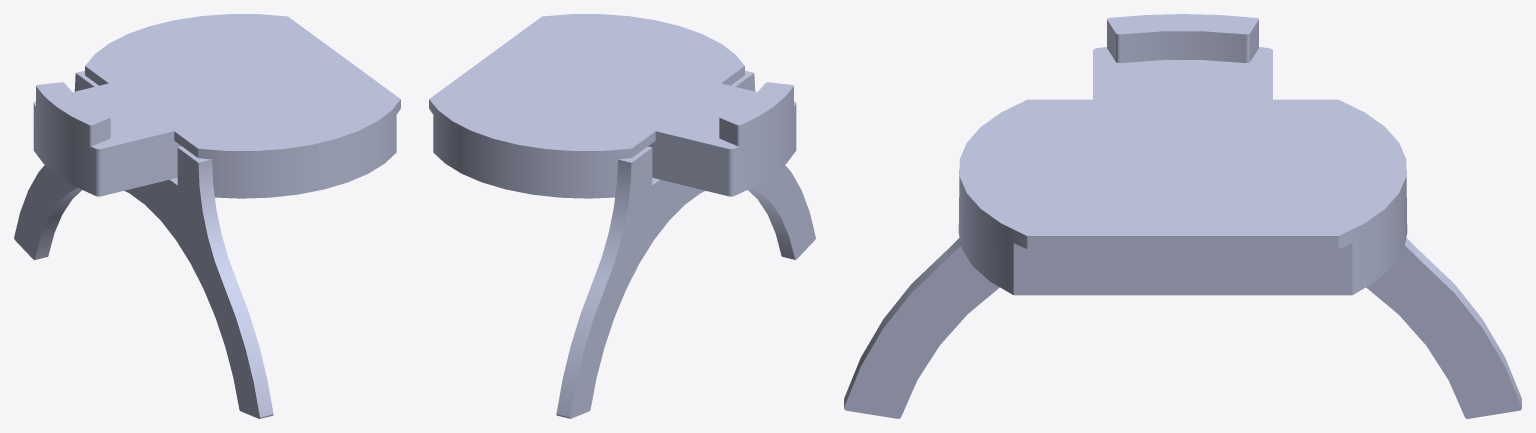
3 views of the same model, side by side, from view 1: azimuth 30°, elevation 25°; view 2: azimuth 150°, elevation 25°; view 3: azimuth 270°, elevation 25° (orthographic). The views are drawn at different scales.
Parts seen in each view (by area): view 1: Body1; view 2: Body1; view 3: Body1.
Part boxes in pixels (bbox=[...]): Body1: bbox=[14, 14, 400, 418]; Body1: bbox=[429, 14, 815, 418]; Body1: bbox=[844, 14, 1521, 418].
Size of the model in its own units: 0.0635 by 0.0524 by 0.0941.
